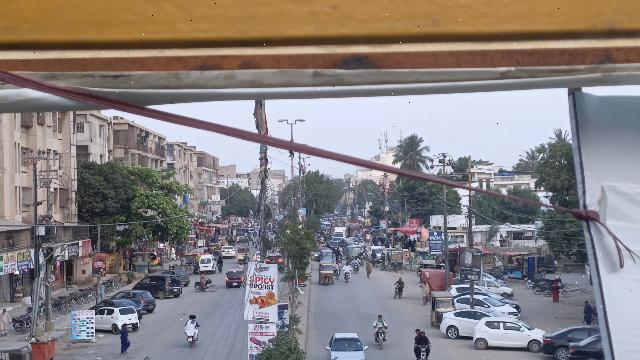Bike: (373, 325, 389, 351), (193, 279, 217, 294), (413, 343, 432, 360), (184, 332, 198, 347), (392, 283, 405, 299), (342, 269, 352, 284)
Car: (472, 315, 547, 354), (437, 307, 515, 338), (541, 324, 601, 359), (91, 306, 142, 333), (324, 332, 370, 360), (133, 274, 183, 299), (91, 298, 144, 321), (566, 334, 607, 360), (114, 289, 158, 313), (225, 266, 245, 290)
Person: (417, 278, 433, 308), (117, 322, 131, 354), (412, 328, 432, 349), (0, 308, 12, 338), (184, 312, 198, 337), (580, 298, 593, 324), (374, 312, 389, 331), (200, 271, 207, 290), (395, 276, 405, 289), (342, 262, 352, 273)
Rickshaw: (429, 289, 457, 329), (318, 259, 335, 288)
